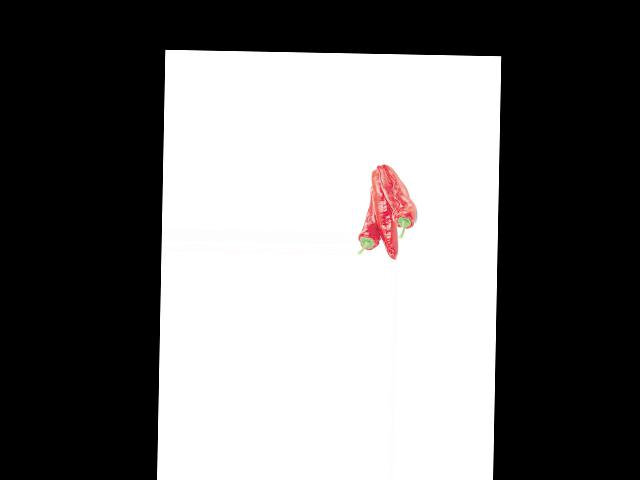bell_pepper: (384, 163, 419, 240)
